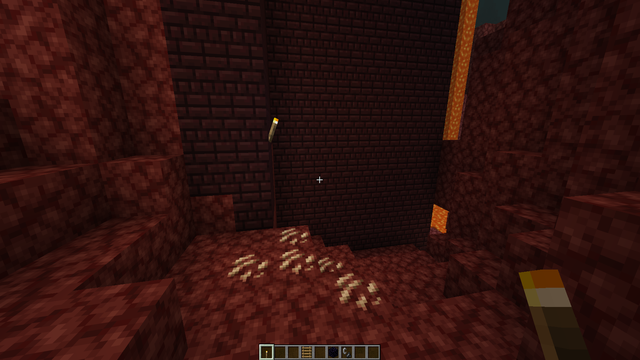quartz: (224, 224, 388, 312)
